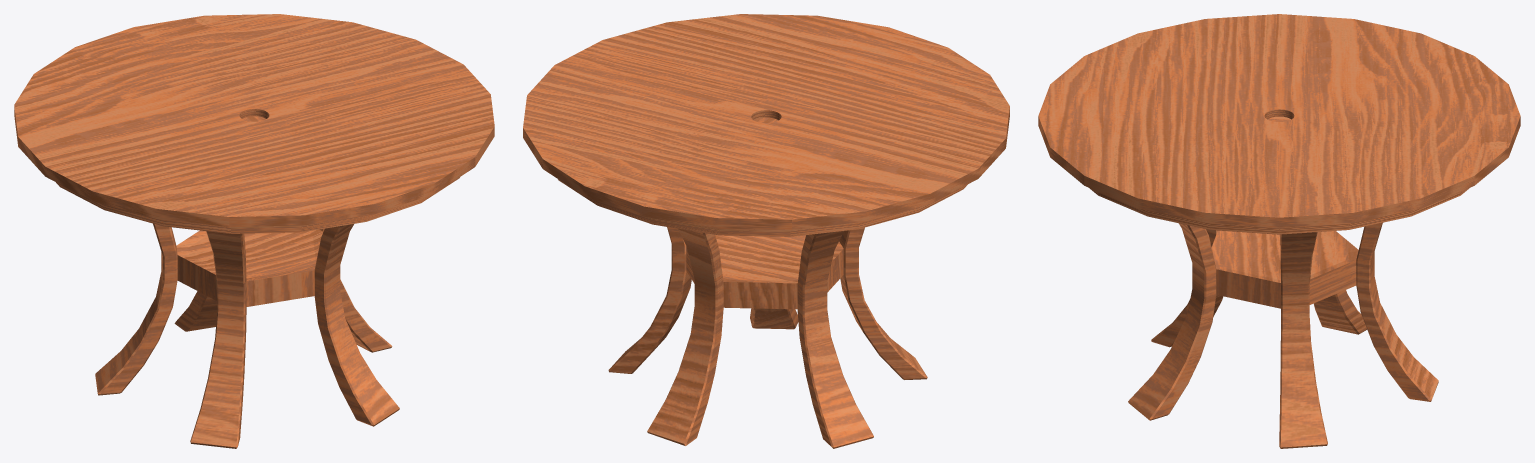
File: Tevolino_002.fbx
The picture shows the model from 3 angles, left to right: view 1: azimuth 30°, elevation 25°; view 2: azimuth 150°, elevation 25°; view 3: azimuth 270°, elevation 25°; orthographic projection.
Visible parts, largest first — view 1: Tevolino.002; view 2: Tevolino.002; view 3: Tevolino.002.
Part boxes in pixels (x1=…): Tevolino.002: x1=14, y1=14, x2=494, y2=448; Tevolino.002: x1=523, y1=14, x2=1009, y2=448; Tevolino.002: x1=1038, y1=14, x2=1520, y2=448.
Size of the model in its own units: 1968 by 1198 by 1968.
